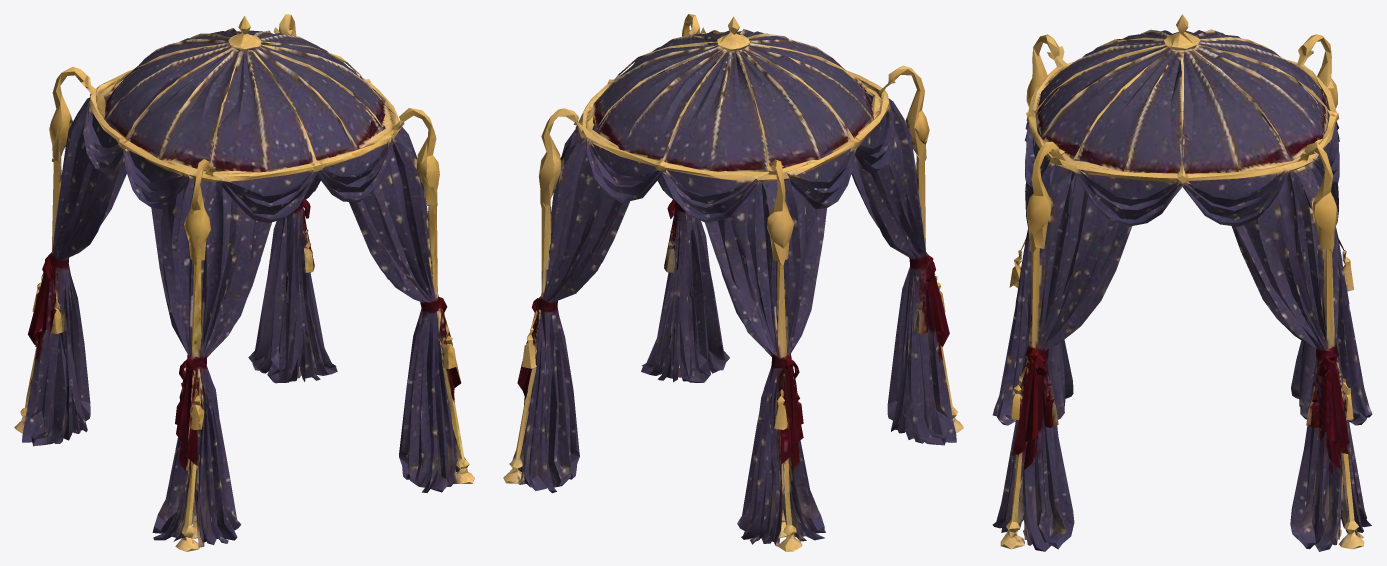
File: P20_veil_canopy_game.glb
The picture shows the model from 3 angles, left to right: view 1: azimuth 30°, elevation 25°; view 2: azimuth 150°, elevation 25°; view 3: azimuth 270°, elevation 25°; orthographic projection. The views are drawn at different scales.
Parts seen in each view (by area): view 1: P20_veil_canopy; view 2: P20_veil_canopy; view 3: P20_veil_canopy.
Boxes of the visible parts, box(x1,y1,x2,y2) form: P20_veil_canopy: box(14, 14, 474, 551); P20_veil_canopy: box(503, 14, 963, 551); P20_veil_canopy: box(992, 14, 1372, 551).
Size of the model in its own units: 2.41 by 3.2 by 2.4.
1 material, 1 textured.
